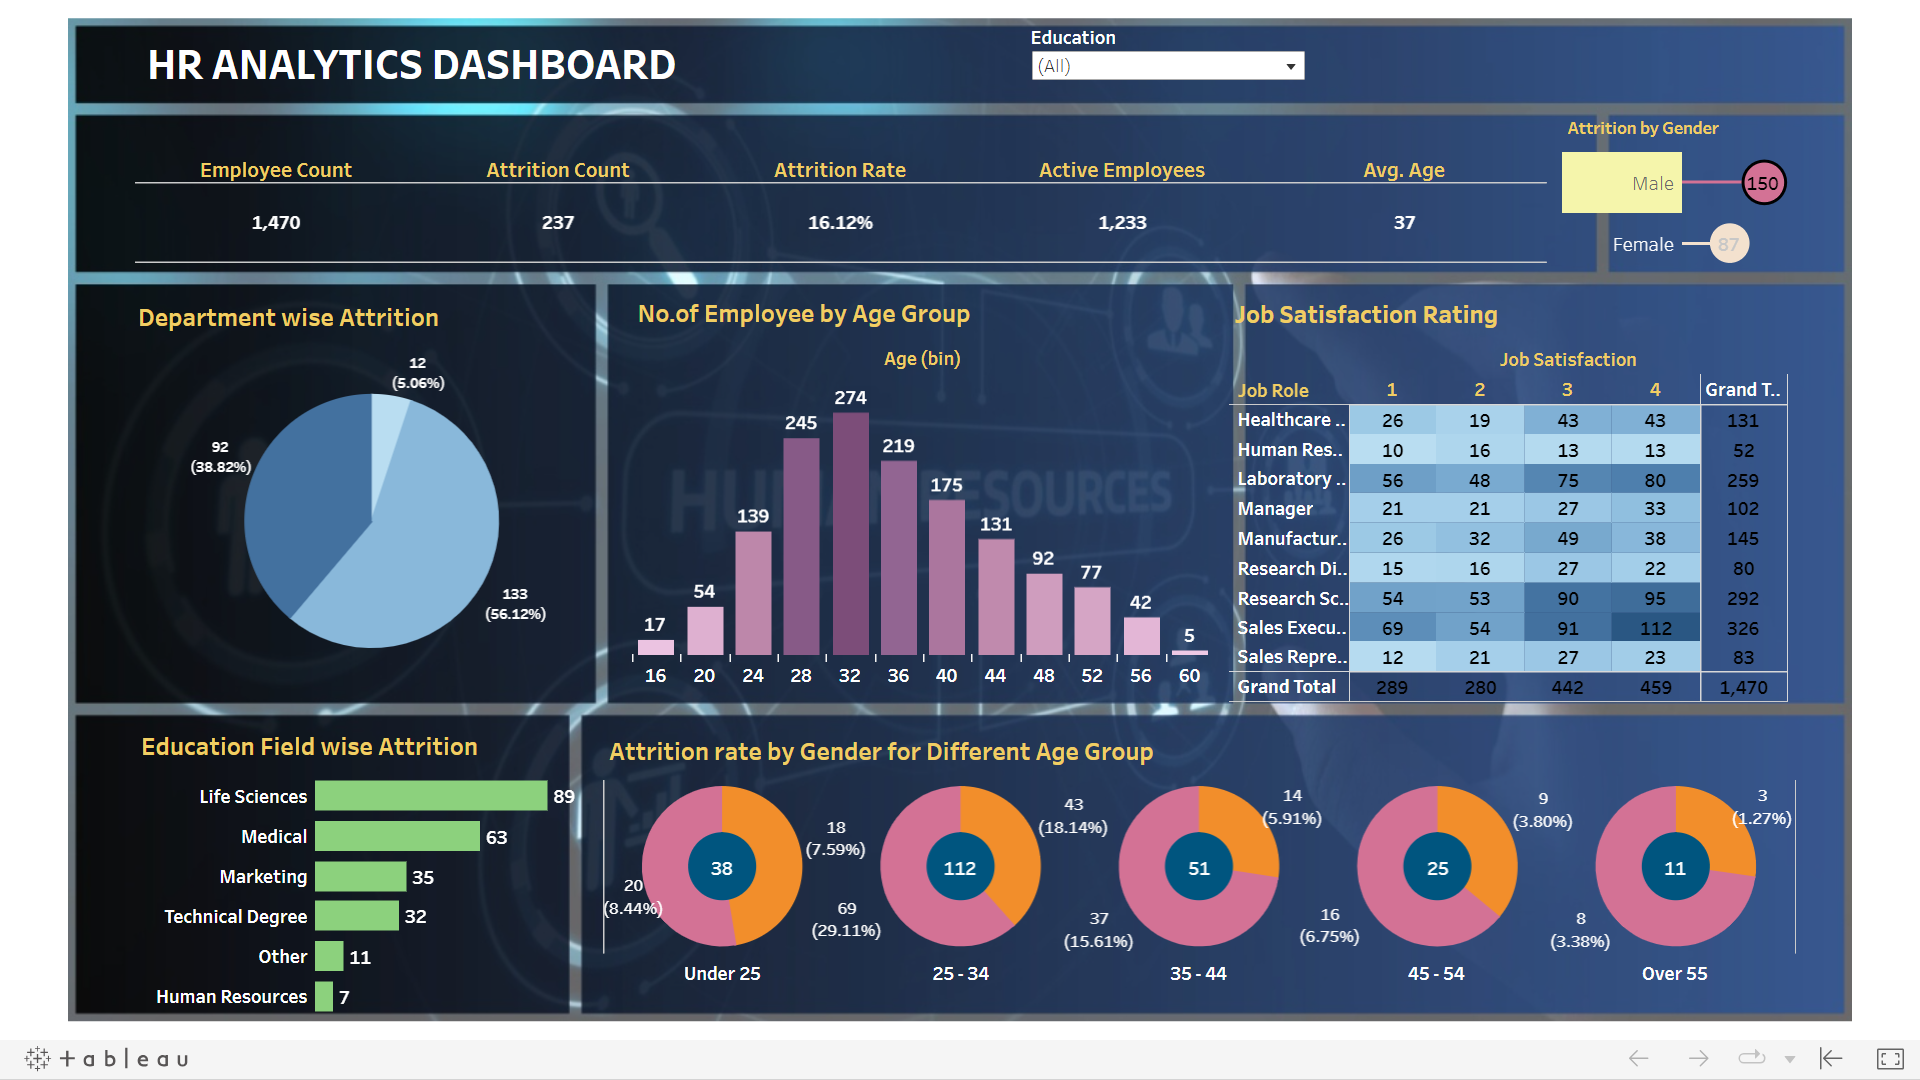

This screenshot's page, from the dashboard's own definition file:
{"tool":"tableau","page":{"name":"HR ANALYTICS DASHBOARD","canvas":[1000,1000],"units":"permille","ordinal":0},"visuals":[{"type":"image","param":"Image/HR background.pptx.png","box":[5.1,9.9,989.9,980.1]},{"type":"filter","title":"Department wise Attrition","param":"[federated.00pvf4v0yypfv0140zfbh006h3tg].[none:Education:nk]","box":[537,22.3,143.1,73.2]},{"type":"text","box":[76.7,31,490.7,58.3]},{"type":"worksheet","title":"Attrition by Gender","mark":"Automatic","rows":["Gender"],"cols":["Calculation_2976034964969242624","Calculation_2976034964969242624"],"box":[813,103,118.5,160.1]},{"type":"worksheet","title":"KPI","mark":"Automatic","box":[70.5,116.6,735,135.2]},{"type":"worksheet","title":"No.of Employee by Age Group","mark":"Automatic","rows":["Employee Count"],"cols":["Age (bin)"],"box":[329.2,274.2,303,387.1]},{"type":"worksheet","title":"Job Satisfaction Rating","mark":"Square","rows":["Job Role"],"cols":["Job Satisfaction"],"box":[639.6,275.4,291.8,399.5]},{"type":"worksheet","title":"Department wise Attrition","mark":"Pie","box":[68.6,277.9,249.4,390.8]},{"type":"worksheet","title":"Education Field wise Attrition ","mark":"Automatic","rows":["Education Field"],"cols":["Calculation_2976034964969242624"],"box":[70.5,691.1,238.8,285.4]},{"type":"worksheet","title":"Attrition rate by Gender for Different Age Group","mark":"Pie","rows":["Calculation_193091871280189441","Calculation_193091871280189441"],"cols":["CF_age band"],"box":[314.1,696,620.6,276.7]}]}

Visuals, with their boxes on the dashboard's canvas, which has no fixed pixel size, in thousandths of its width and height (x1, y1, x2, y2). These are canvas units, not pixel positions in the 1920x1080 screenshot, which may show the page scaled, cropped or inside an application window:
image: [5, 10, 995, 990]
"Department wise Attrition" filter: [537, 22, 680, 96]
text: [77, 31, 567, 89]
"Attrition by Gender" worksheet: [813, 103, 932, 263]
"KPI" worksheet: [70, 117, 806, 252]
"No.of Employee by Age Group" worksheet: [329, 274, 632, 661]
"Job Satisfaction Rating" worksheet (Square marks): [640, 275, 931, 675]
"Department wise Attrition" worksheet (Pie marks): [69, 278, 318, 669]
"Education Field wise Attrition " worksheet: [70, 691, 309, 976]
"Attrition rate by Gender for Different Age Group" worksheet (Pie marks): [314, 696, 935, 973]
